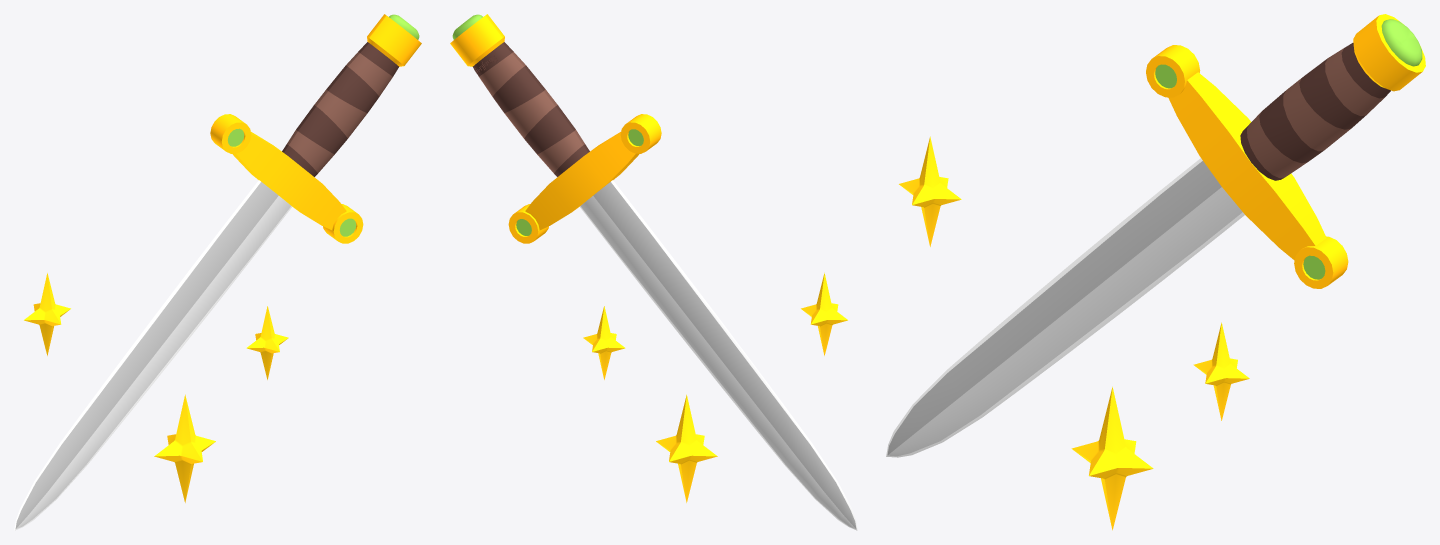
Rendered from dagger.gltf.
The picture shows the model from 3 angles, left to right: view 1: azimuth 30°, elevation 25°; view 2: azimuth 150°, elevation 25°; view 3: azimuth 330°, elevation 25°; orthographic projection. The views are drawn at different scales.
Parts seen in each view (by area): view 1: Cube.990; view 2: Cube.990; view 3: Cube.990.
Part boxes in pixels (bbox=[...]): Cube.990: bbox=[14, 14, 421, 530]; Cube.990: bbox=[450, 14, 857, 530]; Cube.990: bbox=[886, 14, 1425, 530].
Bounding box in the file's own units: 2.17 × 2.24 × 0.3327.
1 material, 1 textured.
